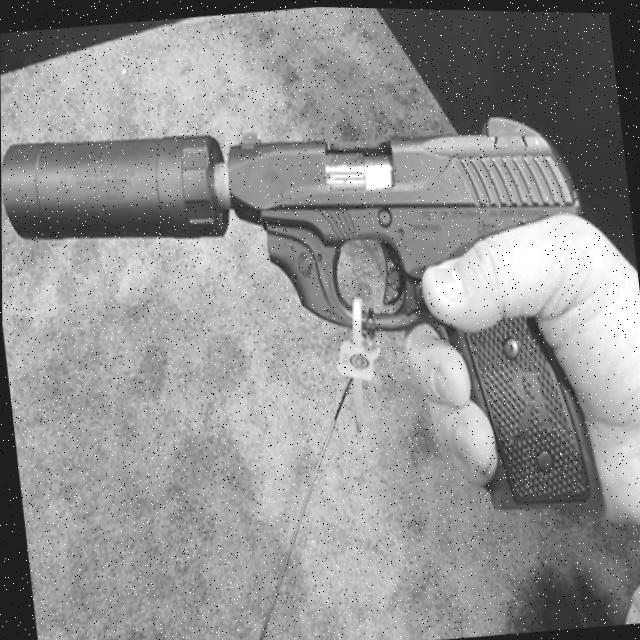pistol: (0, 80, 613, 559)
